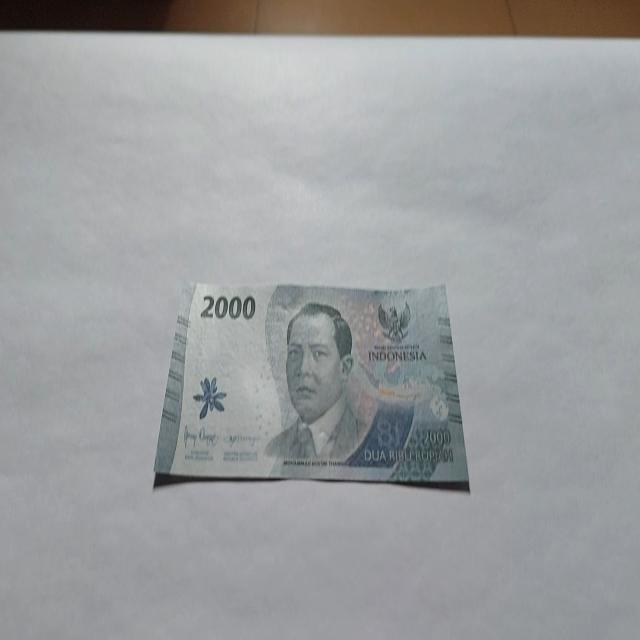dua ribu rupiah: (153, 277, 470, 491), (263, 298, 370, 466)
